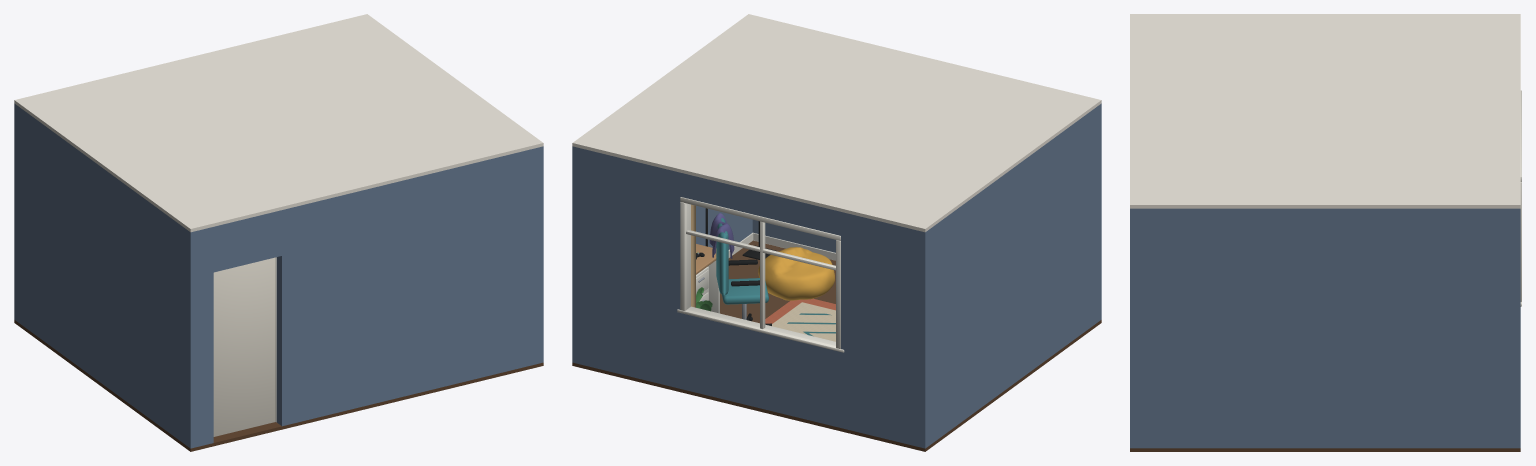
Rendered from room.glb.
3 views of the same model, side by side, from view 1: azimuth 30°, elevation 25°; view 2: azimuth 150°, elevation 25°; view 3: azimuth 270°, elevation 25° (orthographic). The views are drawn at different scales.
Parts seen in each view (by area): view 1: Room; view 2: Room; view 3: Room.
Part boxes in pixels (box(x1,y1,x2,y2)): Room: box(14, 14, 543, 451); Room: box(572, 14, 1101, 451); Room: box(1130, 14, 1521, 451).
Size of the model in its own units: 4.44 by 2.68 by 3.85.
Materials: 38 (6 with a texture image).
